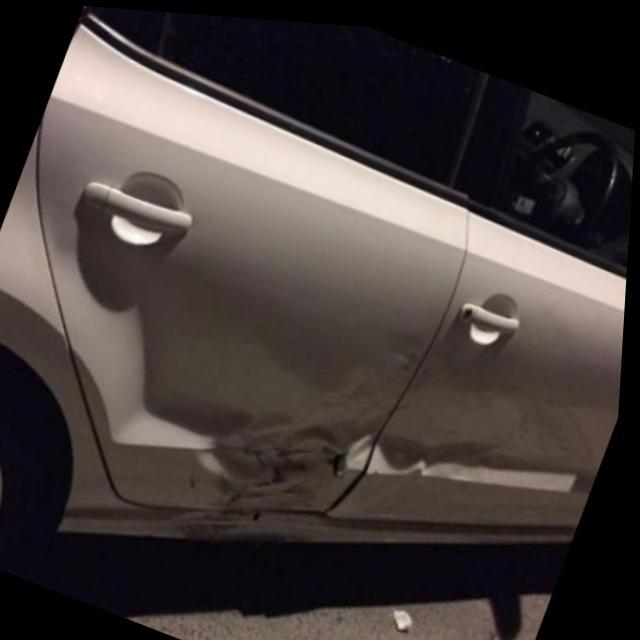dent: (178, 365, 483, 507)
scratch: (180, 512, 248, 537)
